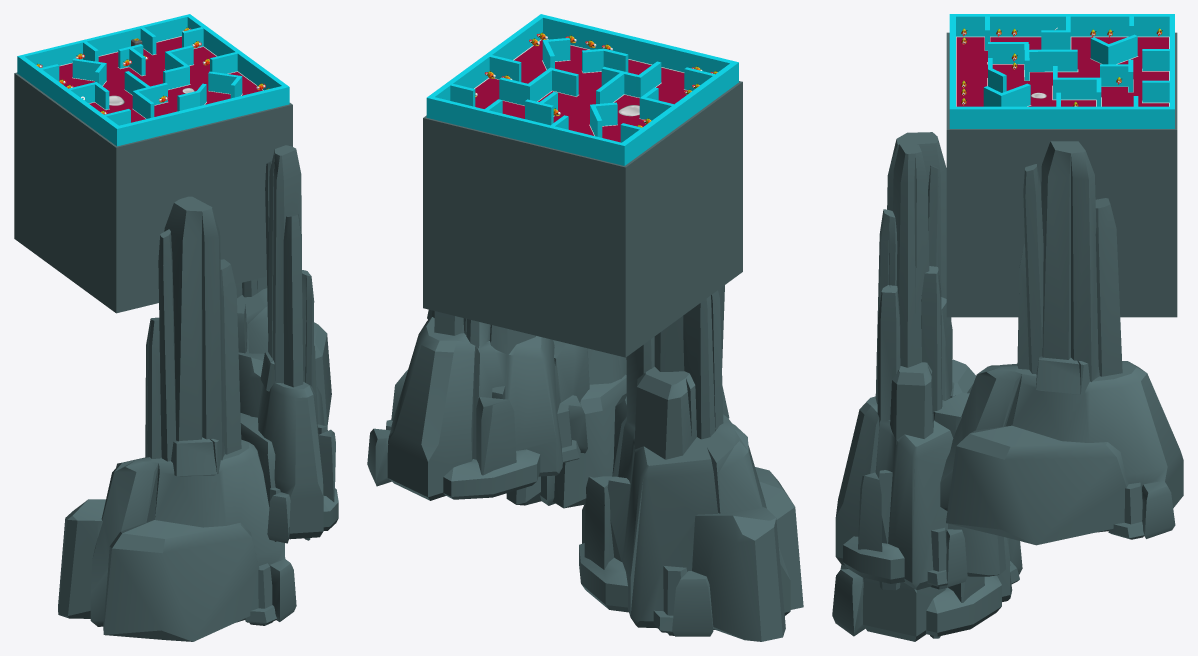
File: Level_10.fbx
3 views of the same model, side by side, from view 1: azimuth 30°, elevation 25°; view 2: azimuth 150°, elevation 25°; view 3: azimuth 270°, elevation 25° (orthographic). The views are drawn at different scales.
Visible parts, largest first — view 1: Rock_5__10_, BaseAndCompound, Rock_5__11_, Rock_5__12_, Base, Walls_13, Walls_21, Walls_6, Walls_7, Walls_12; view 2: BaseAndCompound, Rock_5__10_, Rock_5__12_, Rock_5__11_, Base, Walls_17, Walls_7, Walls_13, Walls_3, Walls_12; view 3: Rock_5__12_, BaseAndCompound, Rock_5__11_, Rock_5__10_, Base, Walls_3, Walls_1, Walls_12, Walls_21, Walls_18, Walls_19, Walls_2 (+2 smaller).
Part boxes in pixels (bbox=[...]): Rock_5__10_: bbox=[58, 196, 296, 641]; BaseAndCompound: bbox=[14, 14, 292, 313]; Rock_5__11_: bbox=[240, 145, 338, 543]; Rock_5__12_: bbox=[235, 276, 331, 426]; Base: bbox=[59, 36, 262, 122]; Walls_13: bbox=[163, 65, 190, 90]; Walls_21: bbox=[72, 58, 106, 82]; Walls_6: bbox=[208, 71, 242, 95]; Walls_7: bbox=[210, 52, 237, 73]; Walls_12: bbox=[132, 90, 154, 118]; BaseAndCompound: bbox=[423, 14, 742, 357]; Rock_5__10_: bbox=[579, 285, 803, 641]; Rock_5__12_: bbox=[367, 309, 589, 500]; Rock_5__11_: bbox=[506, 348, 626, 508]; Base: bbox=[475, 40, 687, 142]; Walls_17: bbox=[499, 77, 532, 106]; Walls_7: bbox=[489, 55, 521, 81]; Walls_13: bbox=[548, 67, 578, 96]; Walls_3: bbox=[596, 73, 624, 103]; Walls_12: bbox=[636, 61, 661, 98]; Rock_5__12_: bbox=[933, 141, 1183, 545]; BaseAndCompound: bbox=[946, 14, 1177, 317]; Rock_5__11_: bbox=[835, 142, 1005, 590]; Rock_5__10_: bbox=[832, 132, 1022, 641]; Base: bbox=[956, 37, 1168, 106]; Walls_3: bbox=[1029, 49, 1078, 72]; Walls_1: bbox=[1057, 77, 1096, 100]; Walls_12: bbox=[987, 42, 1028, 64]; Walls_21: bbox=[1108, 34, 1138, 64]; Walls_18: bbox=[1142, 80, 1169, 103]; Walls_19: bbox=[1142, 49, 1169, 71]; Walls_2: bbox=[1100, 64, 1128, 86].
Bounding box in the file's own units: 230 × 377 × 210.
